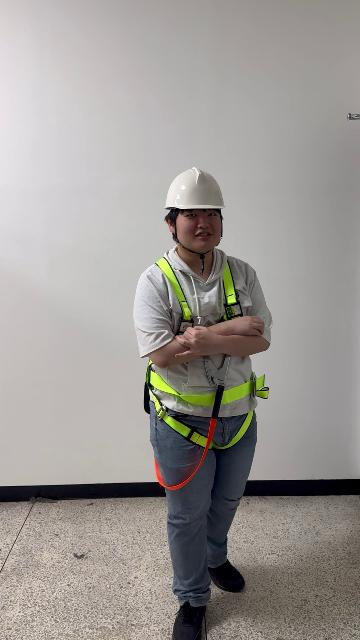helmet_worn: (163, 166, 227, 212)
shoe_not_worn: (172, 602, 206, 640), (207, 559, 244, 593)
vest_worn: (140, 261, 268, 454)
